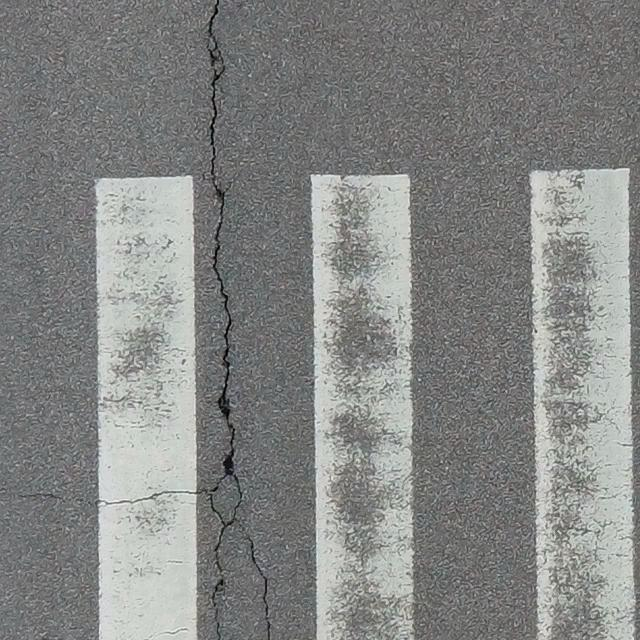GRIETA: (208, 0, 243, 508), (95, 489, 225, 523), (242, 537, 271, 639), (211, 521, 235, 639)
